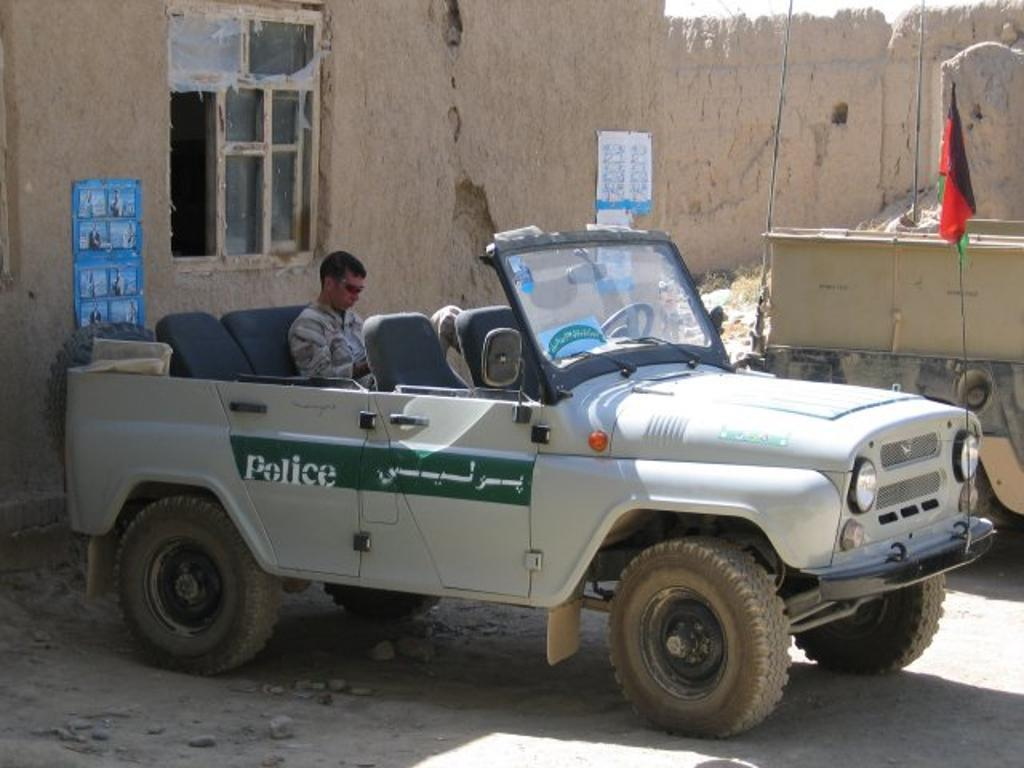face: (334, 269, 365, 312)
